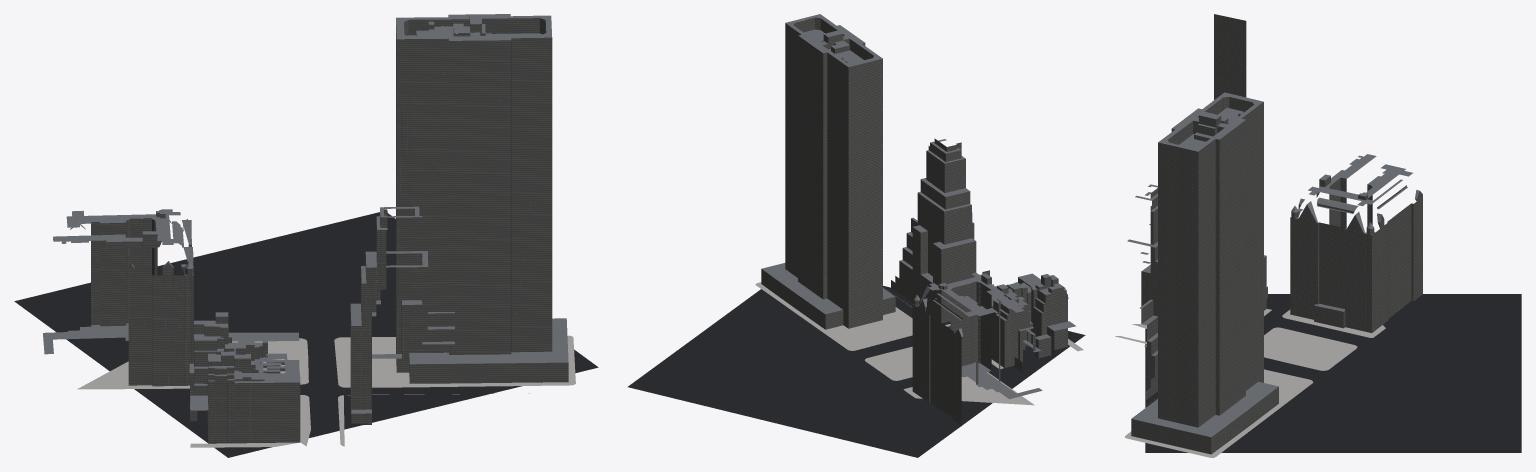
3 renders of one model, left to right at view 1: azimuth 30°, elevation 25°; view 2: azimuth 150°, elevation 25°; view 3: azimuth 270°, elevation 25°, orthographic. The views are drawn at different scales.
Visible parts, largest first — view 1: t7_2, detail; view 2: t7_2, detail; view 3: t7_2, detail.
Part boxes in pixels (bbox=[...]): t7_2: bbox=[14, 14, 598, 457]; detail: bbox=[77, 335, 575, 447]; t7_2: bbox=[628, 14, 1085, 457]; detail: bbox=[755, 282, 1083, 405]; t7_2: bbox=[1127, 14, 1521, 454]; detail: bbox=[1115, 309, 1385, 457].
Bounding box in the file's own units: 301 × 222 × 271.
Materials: 4 (2 with a texture image).
